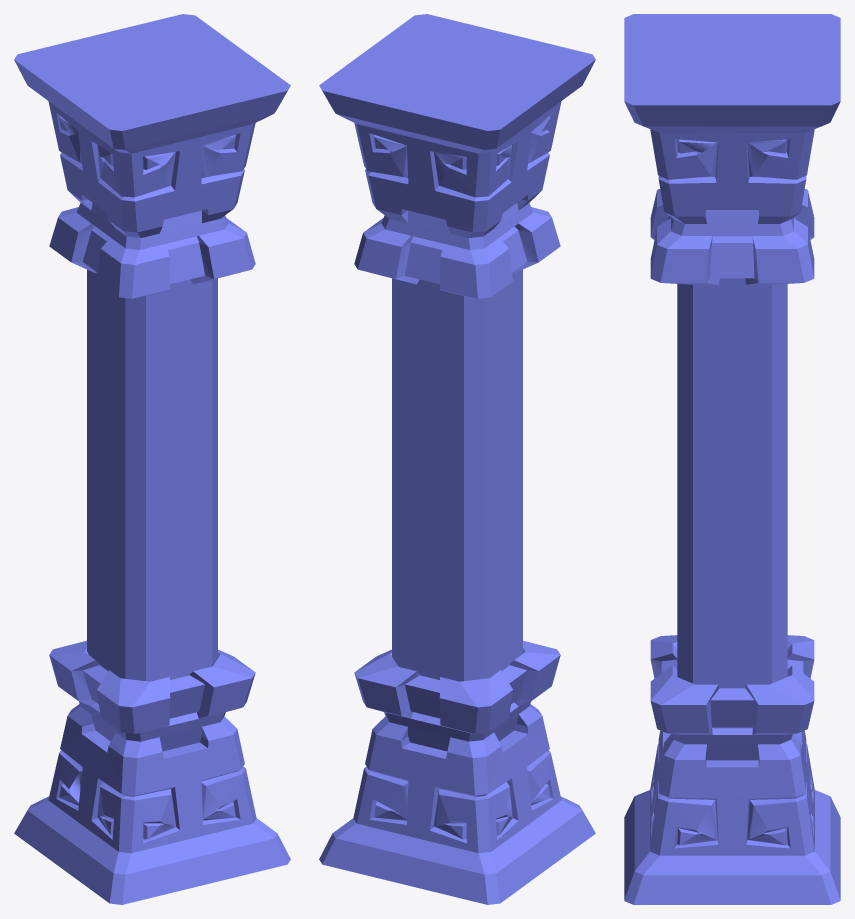
File: pillar_01_SM.fbx
The picture shows the model from 3 angles, left to right: view 1: azimuth 30°, elevation 25°; view 2: azimuth 150°, elevation 25°; view 3: azimuth 270°, elevation 25°; orthographic projection. The views are drawn at different scales.
Parts seen in each view (by area): view 1: pillar_01_SM; view 2: pillar_01_SM; view 3: pillar_01_SM.
Part boxes in pixels (<box>): pillar_01_SM: <box>14,14,290,904</box>; pillar_01_SM: <box>319,14,595,904</box>; pillar_01_SM: <box>624,14,840,904</box>.
Bounding box in the file's own units: 119 × 485 × 119.
